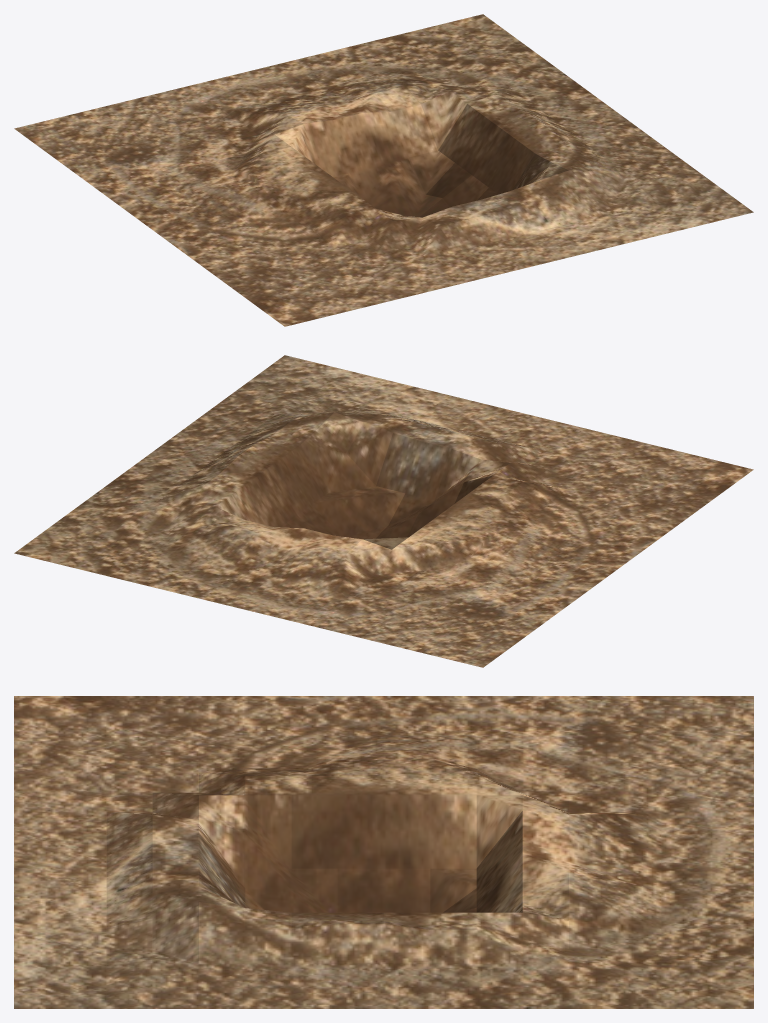
Rendered from CRATERA.glb.
3 renders of one model, top to bottom at view 1: azimuth 30°, elevation 25°; view 2: azimuth 150°, elevation 25°; view 3: azimuth 270°, elevation 25°, orthographic. The views are drawn at different scales.
Visible parts, largest first — view 1: CRATERA; view 2: CRATERA; view 3: CRATERA.
Part boxes in pixels (<box>): CRATERA: <box>14,14,753,326</box>; CRATERA: <box>14,355,753,667</box>; CRATERA: <box>14,696,753,1008</box>.
Bounding box in the file's own units: 2 × 0.3244 × 2.
Materials: 1 (1 with a texture image).
